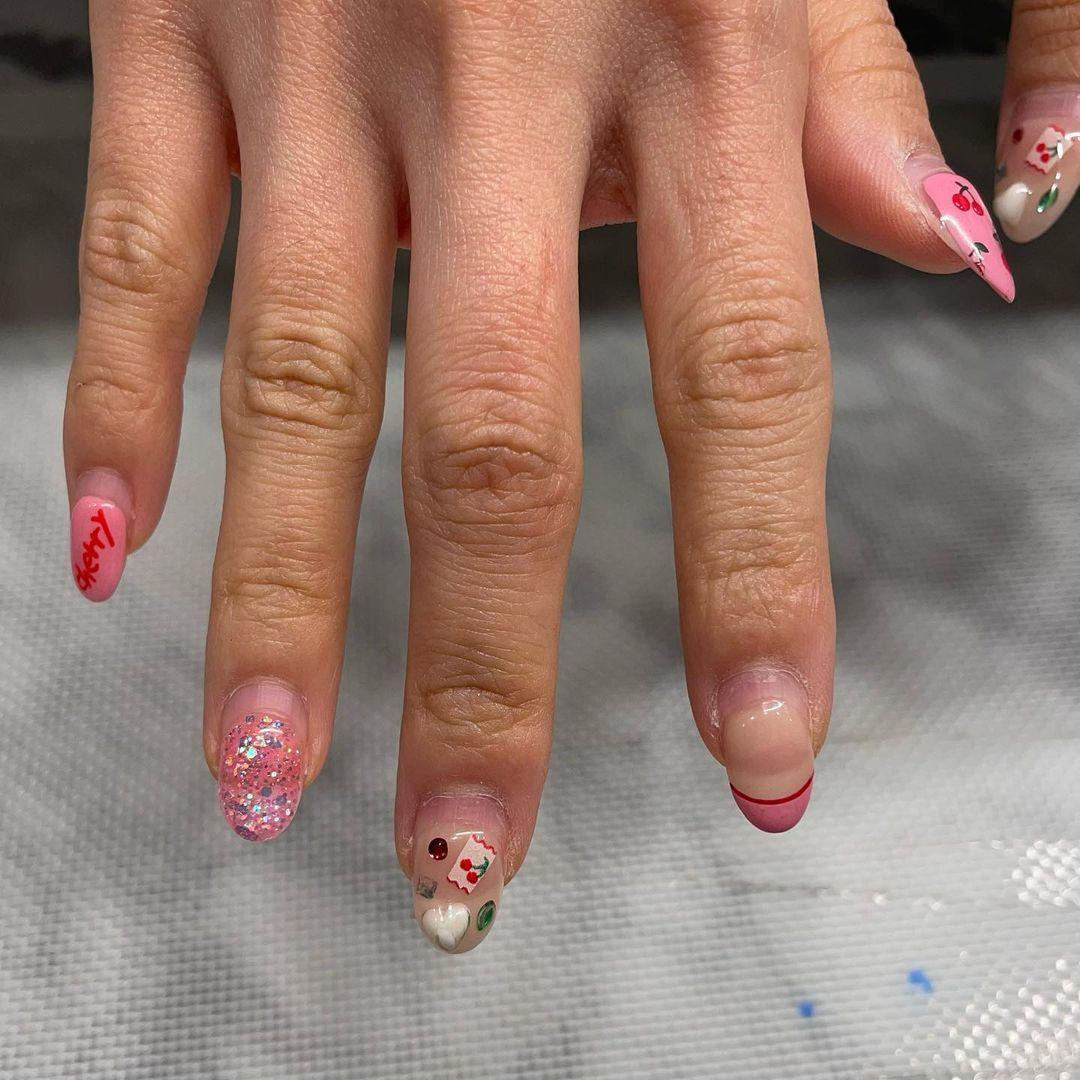nail: (712, 663, 815, 833), (408, 790, 510, 954), (215, 675, 308, 842), (990, 83, 1078, 243), (919, 169, 1016, 303), (68, 493, 127, 602)
